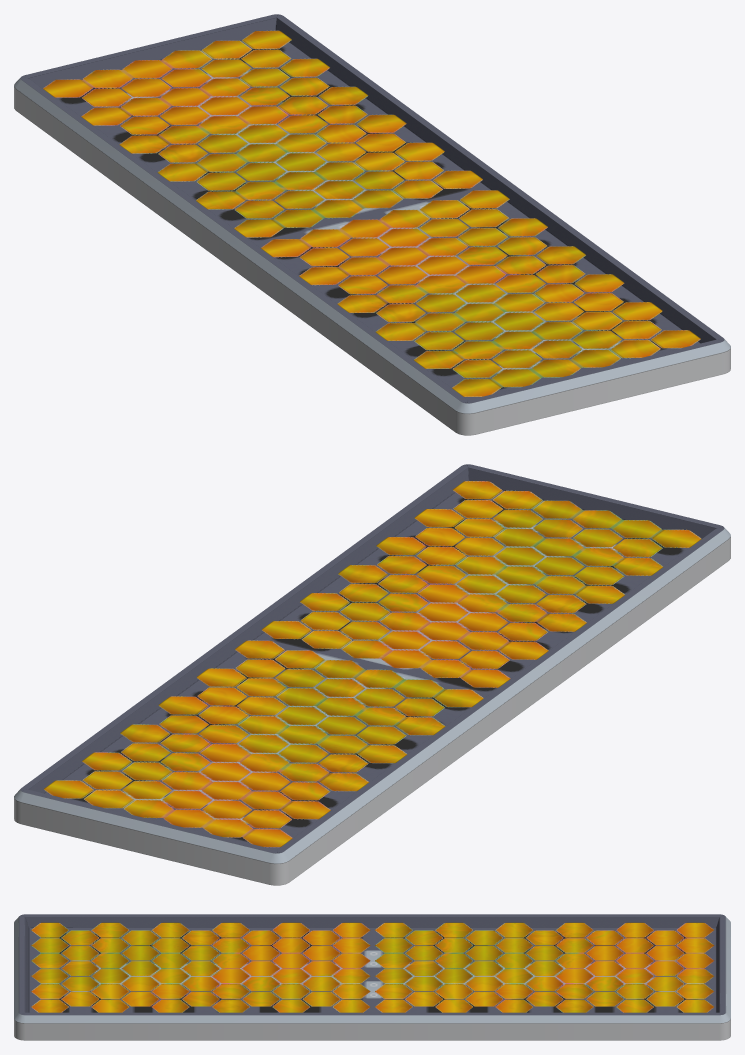
File: Solar_Panel_01.FBX
The picture shows the model from 3 angles, top to bottom: view 1: azimuth 30°, elevation 25°; view 2: azimuth 150°, elevation 25°; view 3: azimuth 270°, elevation 25°; orthographic projection. The views are drawn at different scales.
Visible parts, largest first — view 1: Solar_Panel_01; view 2: Solar_Panel_01; view 3: Solar_Panel_01.
Part boxes in pixels (x1,y1,x2,y2): Solar_Panel_01: [14, 14, 730, 435]; Solar_Panel_01: [14, 464, 730, 885]; Solar_Panel_01: [14, 914, 730, 1040].
Bounding box in the file's own units: 2.23 × 0.2289 × 6.41.
